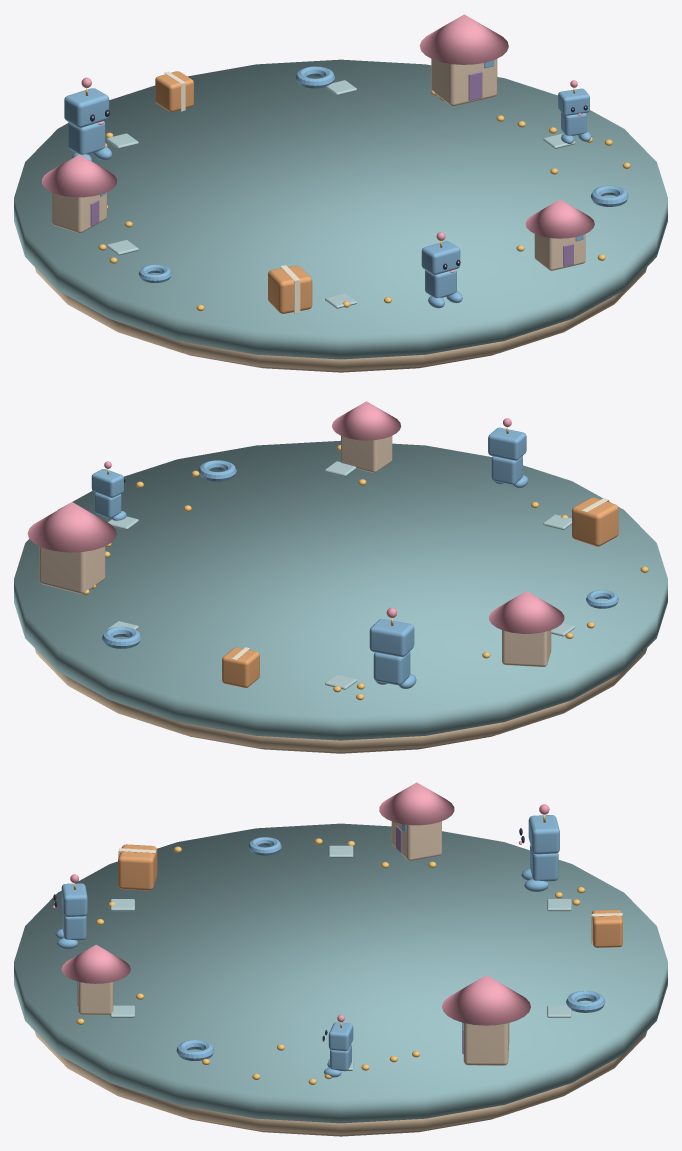
File: world.glb
3 renders of one model, top to bottom at view 1: azimuth 30°, elevation 25°; view 2: azimuth 150°, elevation 25°; view 3: azimuth 270°, elevation 25°, orthographic.
Visible parts, largest first — view 1: Cone, Cone.001, house.001, house.002, house.003, robot.002, robot.003, parcel.002, robot.001, parcel.001, gear.001, gear.003 (+1 smaller); view 2: Cone, Cone.001, house.001, house.002, house.003, robot.002, robot.003, parcel.002, robot.001, parcel.001, gear.001, gear.003 (+1 smaller); view 3: Cone, Cone.001, house.001, house.002, house.003, robot.002, robot.003, parcel.002, robot.001, parcel.001, gear.001, gear.003 (+1 smaller).
Boxes of the visible parts, bbox=[...] form: Cone: bbox=[14, 59, 667, 359]; Cone.001: bbox=[34, 267, 647, 371]; house.001: bbox=[419, 14, 508, 106]; house.002: bbox=[42, 154, 116, 233]; house.003: bbox=[525, 199, 594, 270]; robot.002: bbox=[64, 77, 112, 161]; robot.003: bbox=[421, 232, 462, 308]; parcel.002: bbox=[268, 265, 312, 314]; robot.001: bbox=[558, 80, 591, 143]; parcel.001: bbox=[155, 71, 193, 111]; gear.001: bbox=[295, 66, 334, 88]; gear.003: bbox=[591, 185, 628, 206]; Cone: bbox=[14, 440, 667, 740]; Cone.001: bbox=[34, 648, 647, 752]; house.001: bbox=[27, 502, 116, 594]; house.002: bbox=[489, 591, 564, 666]; house.003: bbox=[332, 401, 401, 472]; robot.002: bbox=[369, 607, 416, 688]; robot.003: bbox=[488, 418, 528, 488]; parcel.002: bbox=[572, 497, 618, 546]; robot.001: bbox=[91, 461, 126, 520]; parcel.001: bbox=[222, 647, 259, 687]; gear.001: bbox=[102, 626, 141, 648]; gear.003: bbox=[198, 460, 236, 481]; Cone: bbox=[14, 823, 667, 1123]; Cone.001: bbox=[34, 1031, 647, 1135]; house.001: bbox=[442, 975, 530, 1065]; house.002: bbox=[379, 782, 454, 860]; house.003: bbox=[61, 944, 130, 1014]; robot.002: bbox=[518, 804, 559, 891]; robot.003: bbox=[52, 874, 87, 949]; parcel.002: bbox=[118, 844, 157, 890]; robot.001: bbox=[322, 1014, 353, 1077]; parcel.001: bbox=[591, 909, 622, 947]; gear.001: bbox=[566, 991, 605, 1012]; gear.003: bbox=[176, 1040, 214, 1060].
Bounding box in the file's own units: 9.6 × 2.11 × 9.6.
